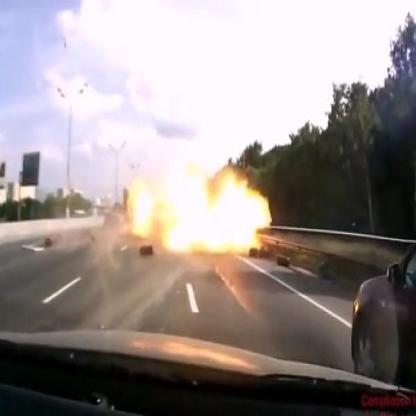fire: (122, 156, 275, 259)
